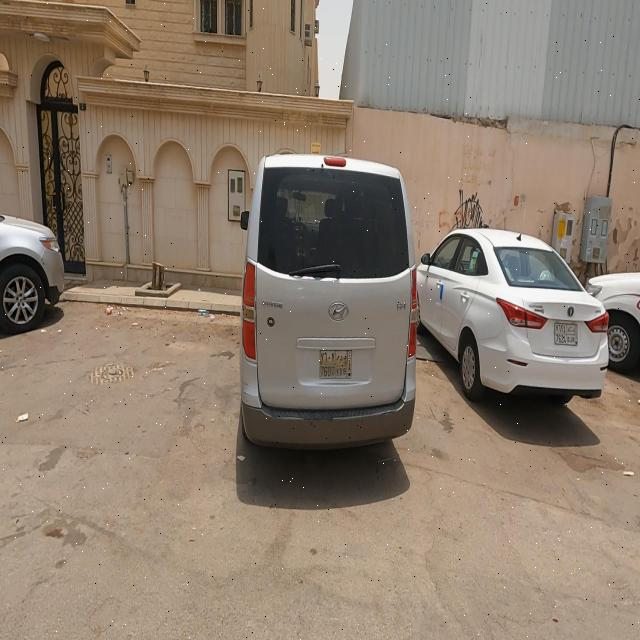Graffiti: (438, 190, 490, 228)
